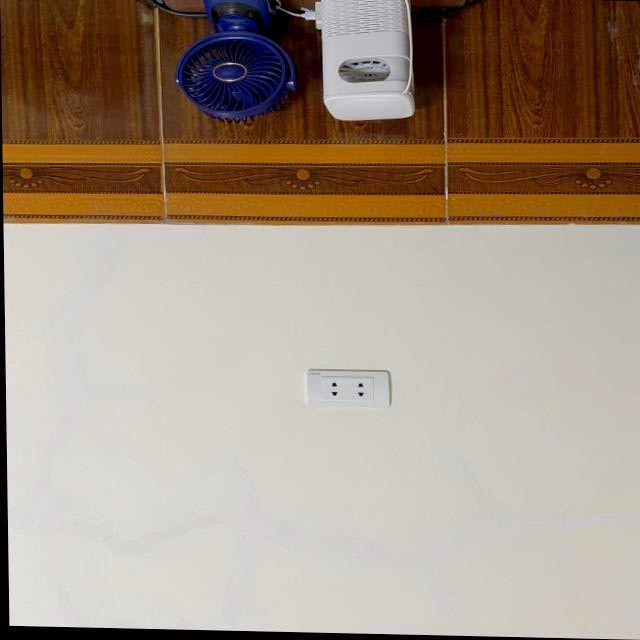outlet: (306, 368, 392, 409)
